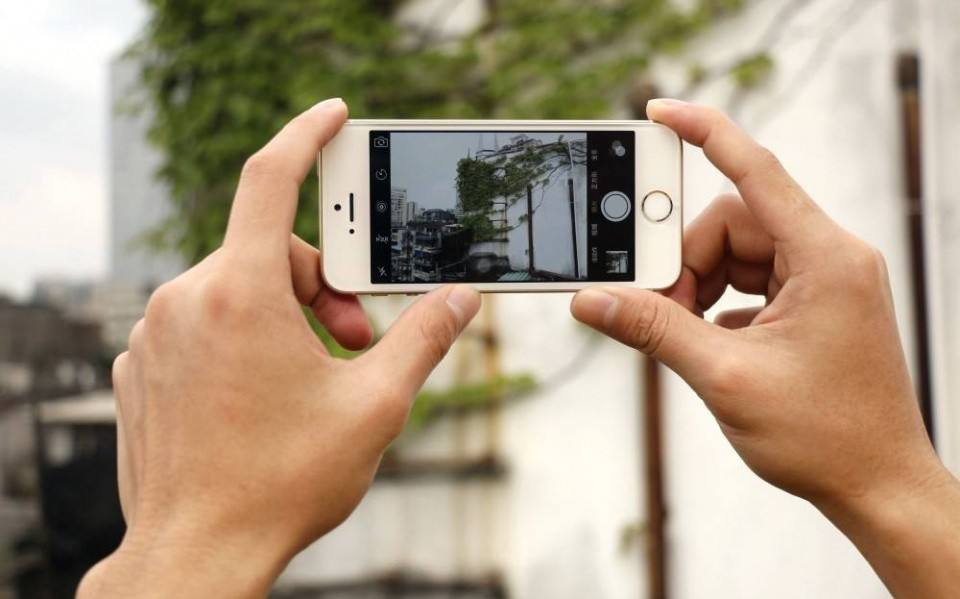taking photos: (102, 88, 948, 563)
